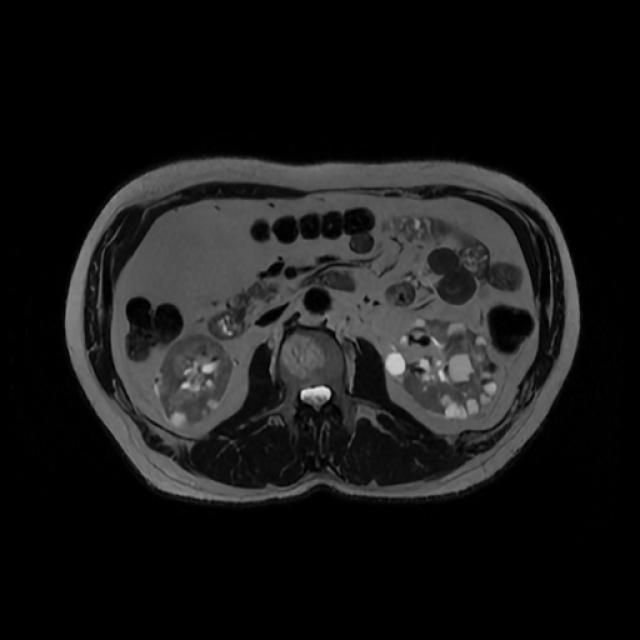sag: (157, 337, 235, 425)
sol: (385, 320, 499, 418)
